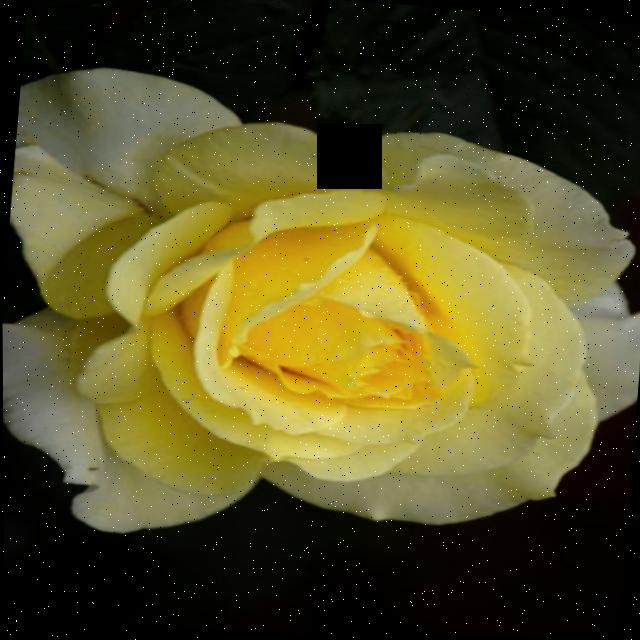rose: (0, 49, 640, 577)
